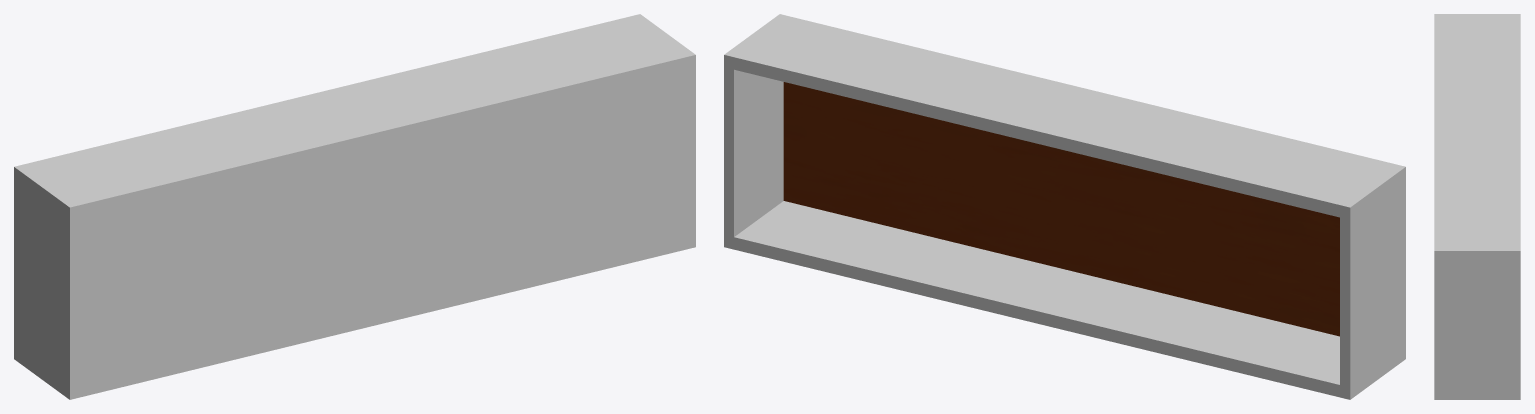
Rendered from median-dirt-barrier-04.obj.
3 renders of one model, left to right at view 1: azimuth 30°, elevation 25°; view 2: azimuth 150°, elevation 25°; view 3: azimuth 270°, elevation 25°, orthographic. The views are drawn at different scales.
Parts seen in each view (by area): view 1: median-dirt-barrier-04_Plane.174; view 2: median-dirt-barrier-04_Plane.174; view 3: median-dirt-barrier-04_Plane.174.
Part boxes in pixels (bbox=[...]): median-dirt-barrier-04_Plane.174: bbox=[14, 14, 695, 399]; median-dirt-barrier-04_Plane.174: bbox=[724, 14, 1405, 399]; median-dirt-barrier-04_Plane.174: bbox=[1434, 14, 1520, 399].
Bounding box in the file's own units: 5.61 × 1.65 × 0.8653.
